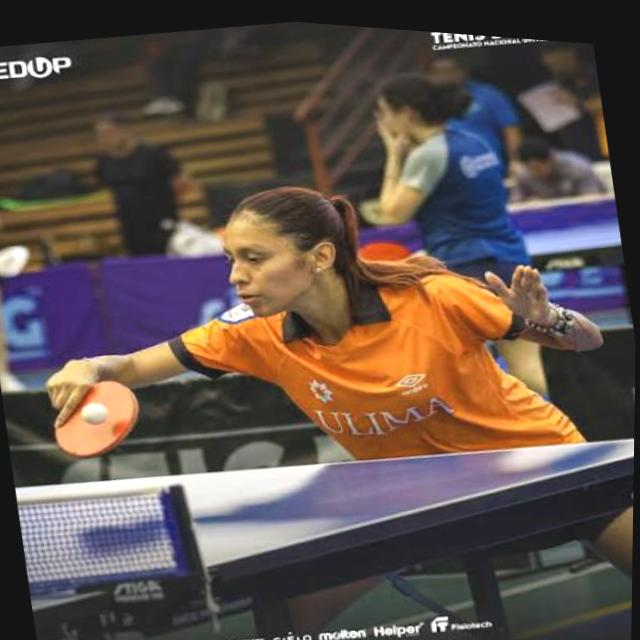TT Net: (17, 483, 211, 600)
TT Racket: (36, 369, 170, 470)
TT Table: (17, 447, 634, 627)
